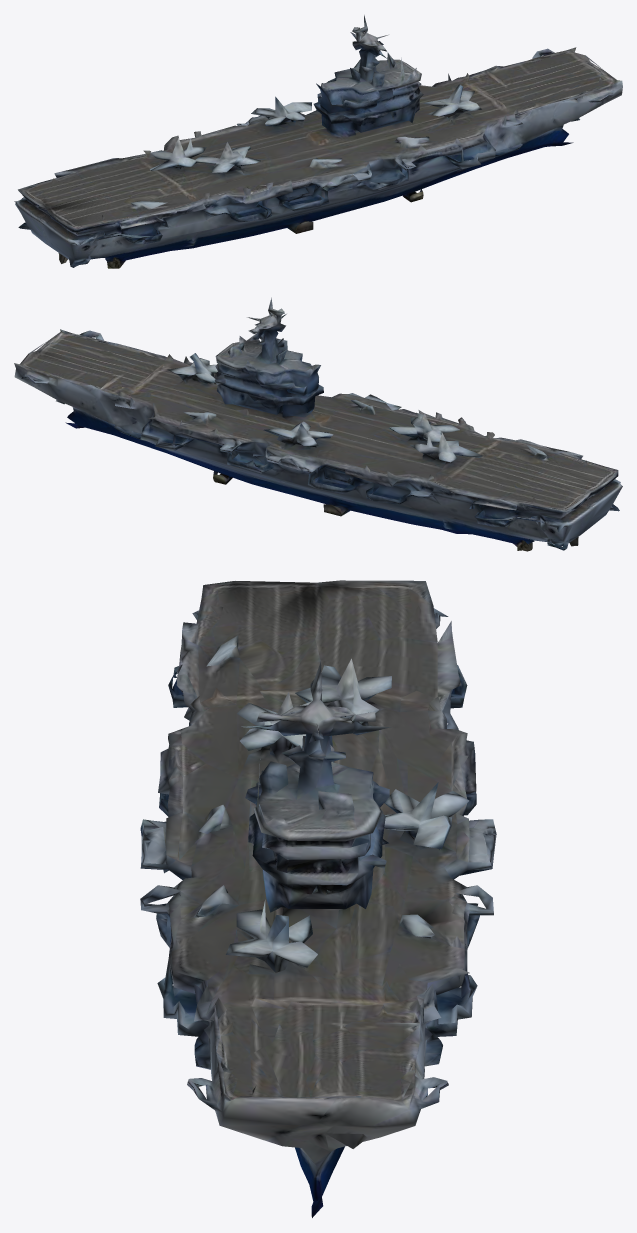
Rendered from carrier.glb.
3 renders of one model, top to bottom at view 1: azimuth 30°, elevation 25°; view 2: azimuth 150°, elevation 25°; view 3: azimuth 270°, elevation 25°, orthographic. The views are drawn at different scales.
Parts seen in each view (by area): view 1: tripo_node_137859db-320d-4293-839f-4de16bebb7d2; view 2: tripo_node_137859db-320d-4293-839f-4de16bebb7d2; view 3: tripo_node_137859db-320d-4293-839f-4de16bebb7d2.
Part boxes in pixels (left/top/right/bottom): tripo_node_137859db-320d-4293-839f-4de16bebb7d2: left=14, top=15, right=622, bottom=268; tripo_node_137859db-320d-4293-839f-4de16bebb7d2: left=14, top=297, right=622, bottom=551; tripo_node_137859db-320d-4293-839f-4de16bebb7d2: left=140, top=580, right=496, bottom=1217.
Size of the model in its own units: 1 by 0.306 by 0.2765.
Materials: 1 (1 with a texture image).
